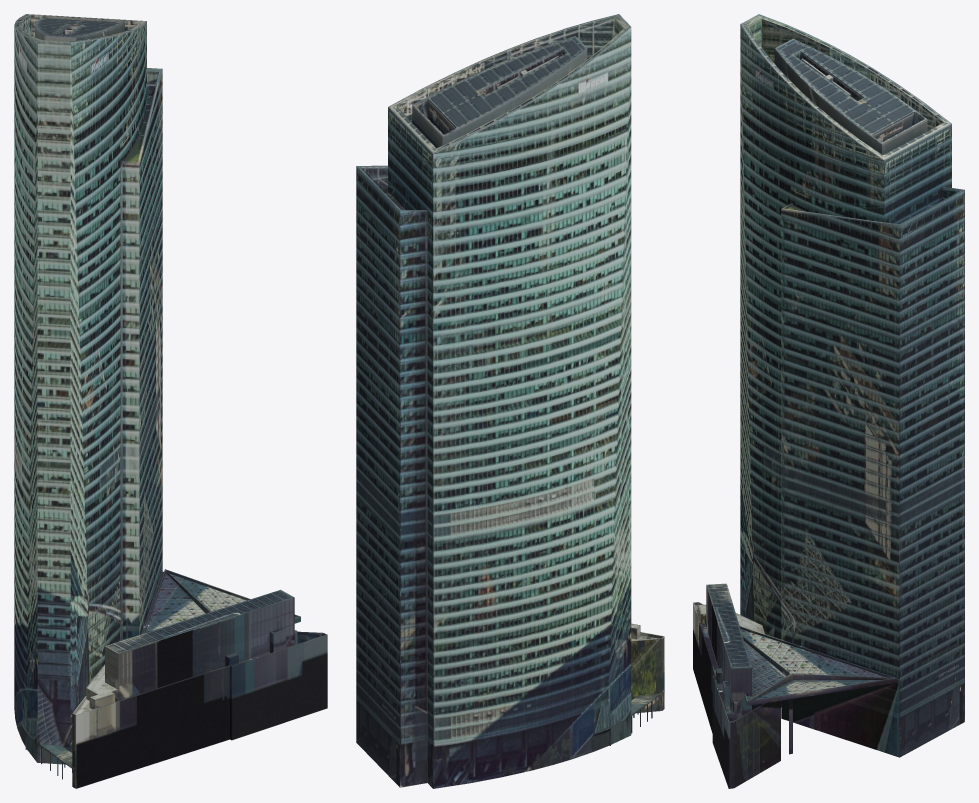
3 renders of one model, left to right at view 1: azimuth 30°, elevation 25°; view 2: azimuth 150°, elevation 25°; view 3: azimuth 270°, elevation 25°, orthographic. The views are drawn at different scales.
Parts seen in each view (by area): view 1: 9_0.glb; view 2: 9_0.glb; view 3: 9_0.glb.
Boxes of the visible parts, x1,y1,x2,y2 form: 9_0.glb: (14, 14, 327, 788); 9_0.glb: (356, 14, 664, 788); 9_0.glb: (693, 14, 964, 788).
Size of the model in its own units: 96.06 by 242 by 91.28.
2 materials, 2 textured.
